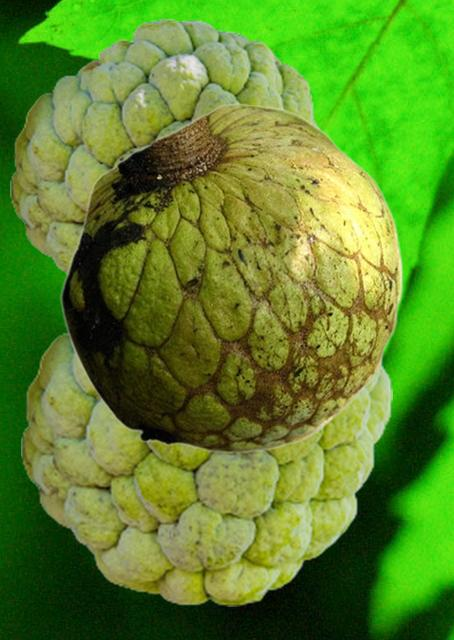atis: (59, 102, 402, 453), (21, 329, 391, 605), (10, 19, 321, 275)
